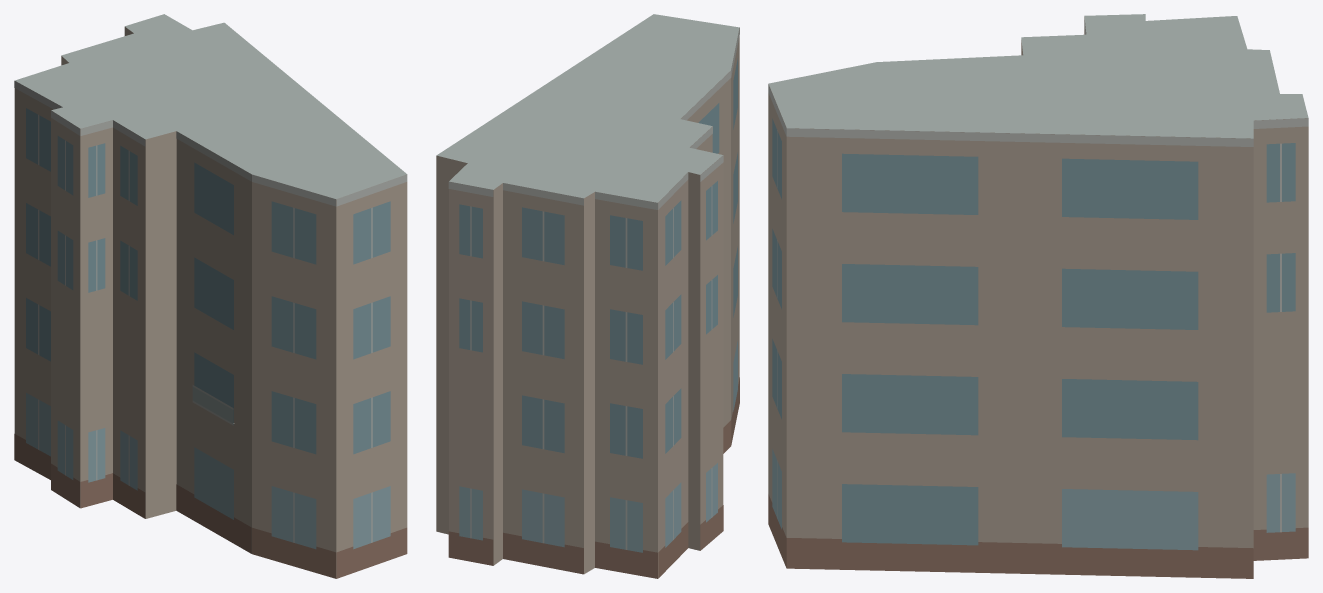
Rendered from survey-upis-32458359.glb.
3 renders of one model, left to right at view 1: azimuth 30°, elevation 25°; view 2: azimuth 150°, elevation 25°; view 3: azimuth 270°, elevation 25°, orthographic. The views are drawn at different scales.
Parts seen in each view (by area): view 1: survey-upis-32458359.tmp; view 2: survey-upis-32458359.tmp; view 3: survey-upis-32458359.tmp.
Boxes of the visible parts, x1,y1,x2,y2 form: survey-upis-32458359.tmp: (14,14,407,578); survey-upis-32458359.tmp: (436,14,739,578); survey-upis-32458359.tmp: (768,14,1308,578).
Size of the model in its own units: 7.59 by 12.5 by 13.91.
